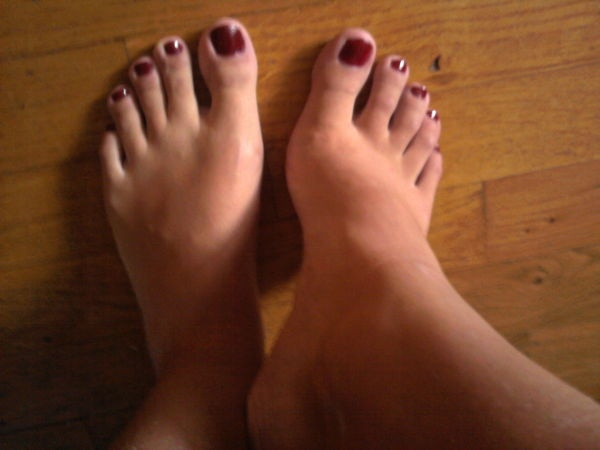feet: (53, 8, 272, 448), (53, 13, 272, 448)
